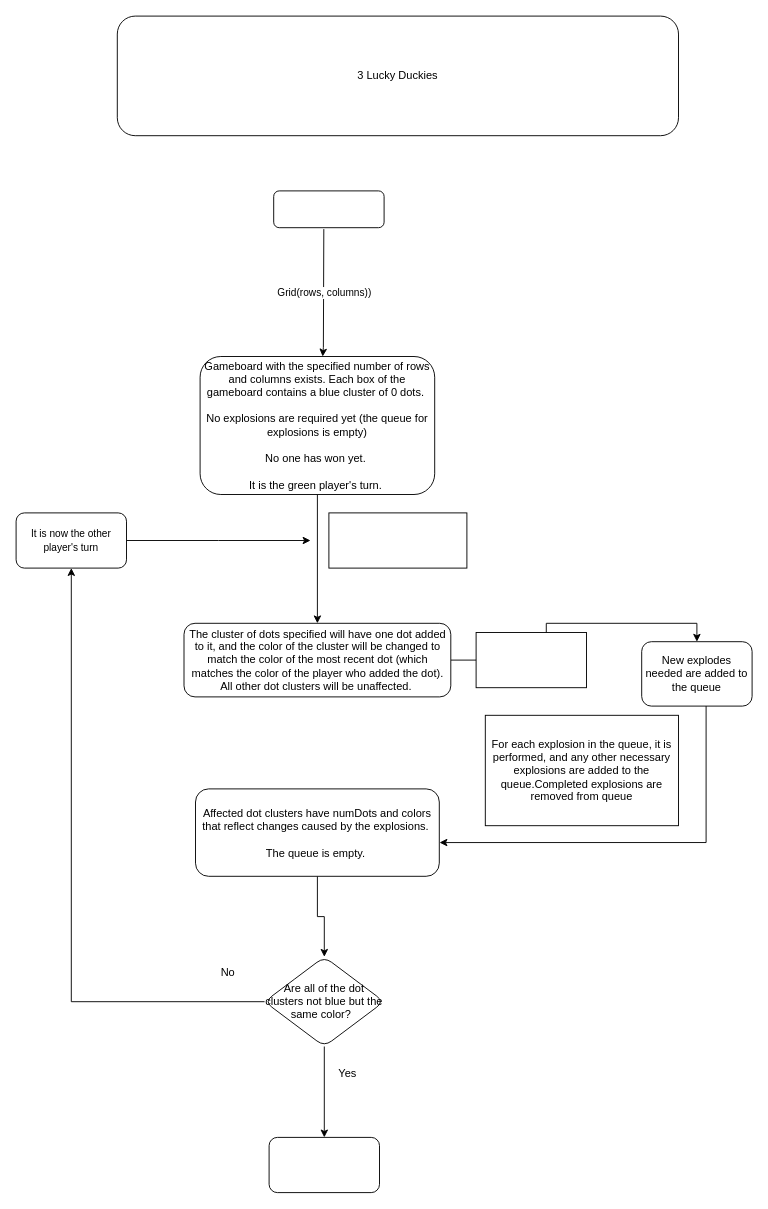
Some shapes in this 768 by 1209 pixel diagram are drawn without their labels. Each missing label, with the centre of its shape:
"(nothing)" belongs at point 328,209.
"Are more explosions needed?" belongs at point 530,660.
"Player specifies dot location. dot is added to that location" belongs at point 397,540.
"The game has been won by the player who most recently had a turn." belongs at point 324,1164.
